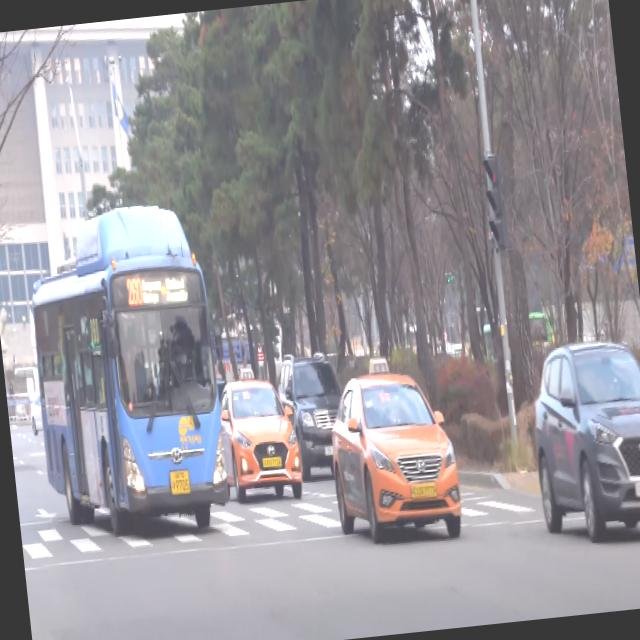bus-number: (125, 275, 144, 307)
